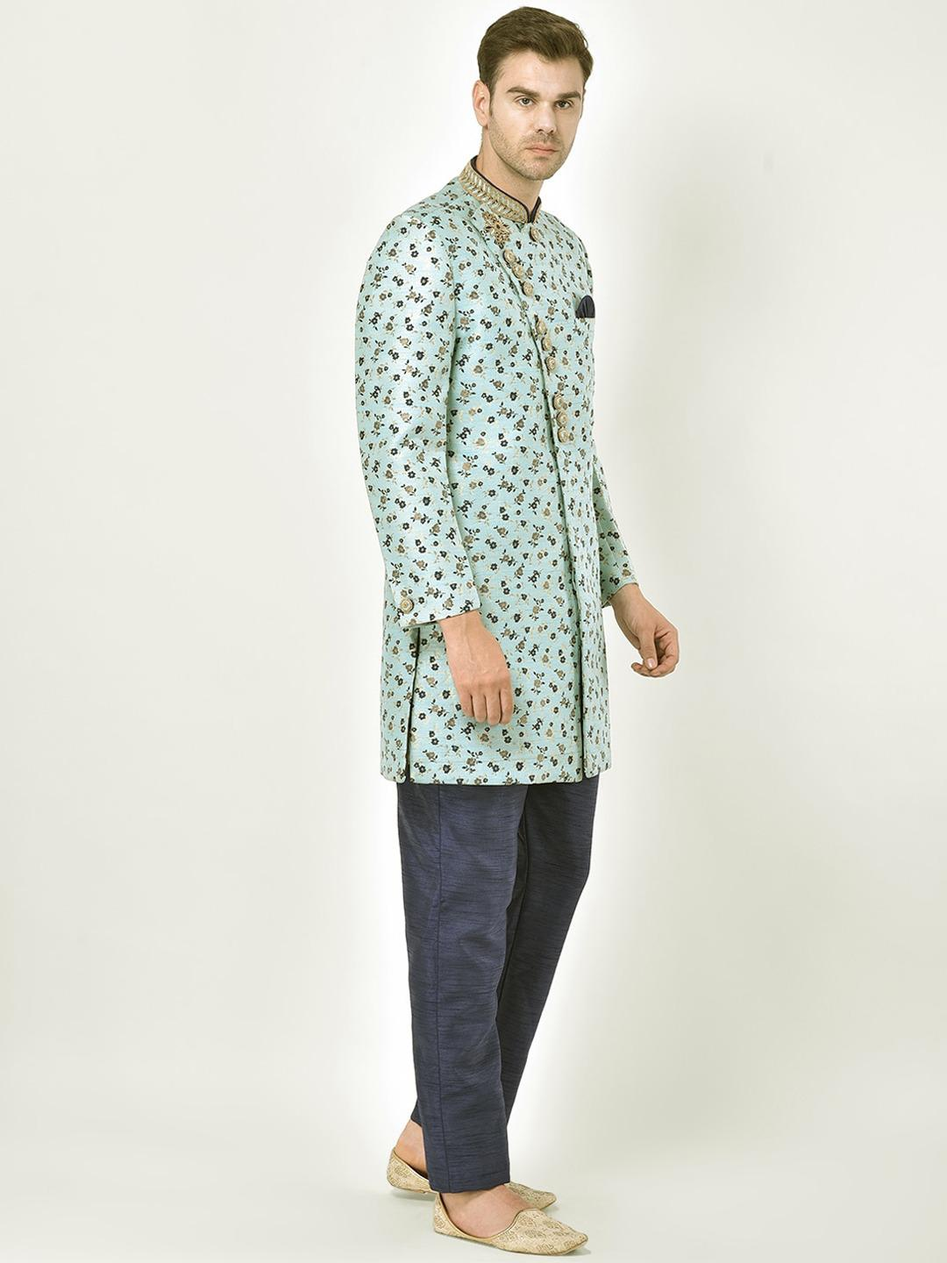Design Sherwani: (351, 161, 640, 794)
